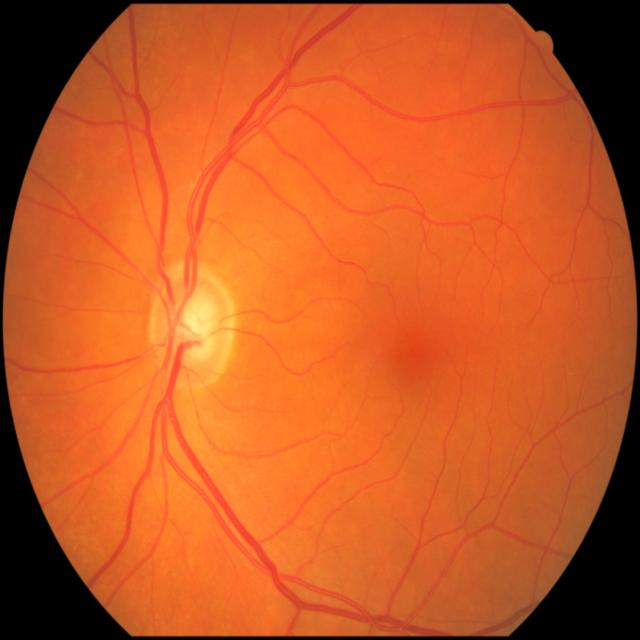OC: (172, 296, 213, 359)
OD: (147, 269, 236, 386)
